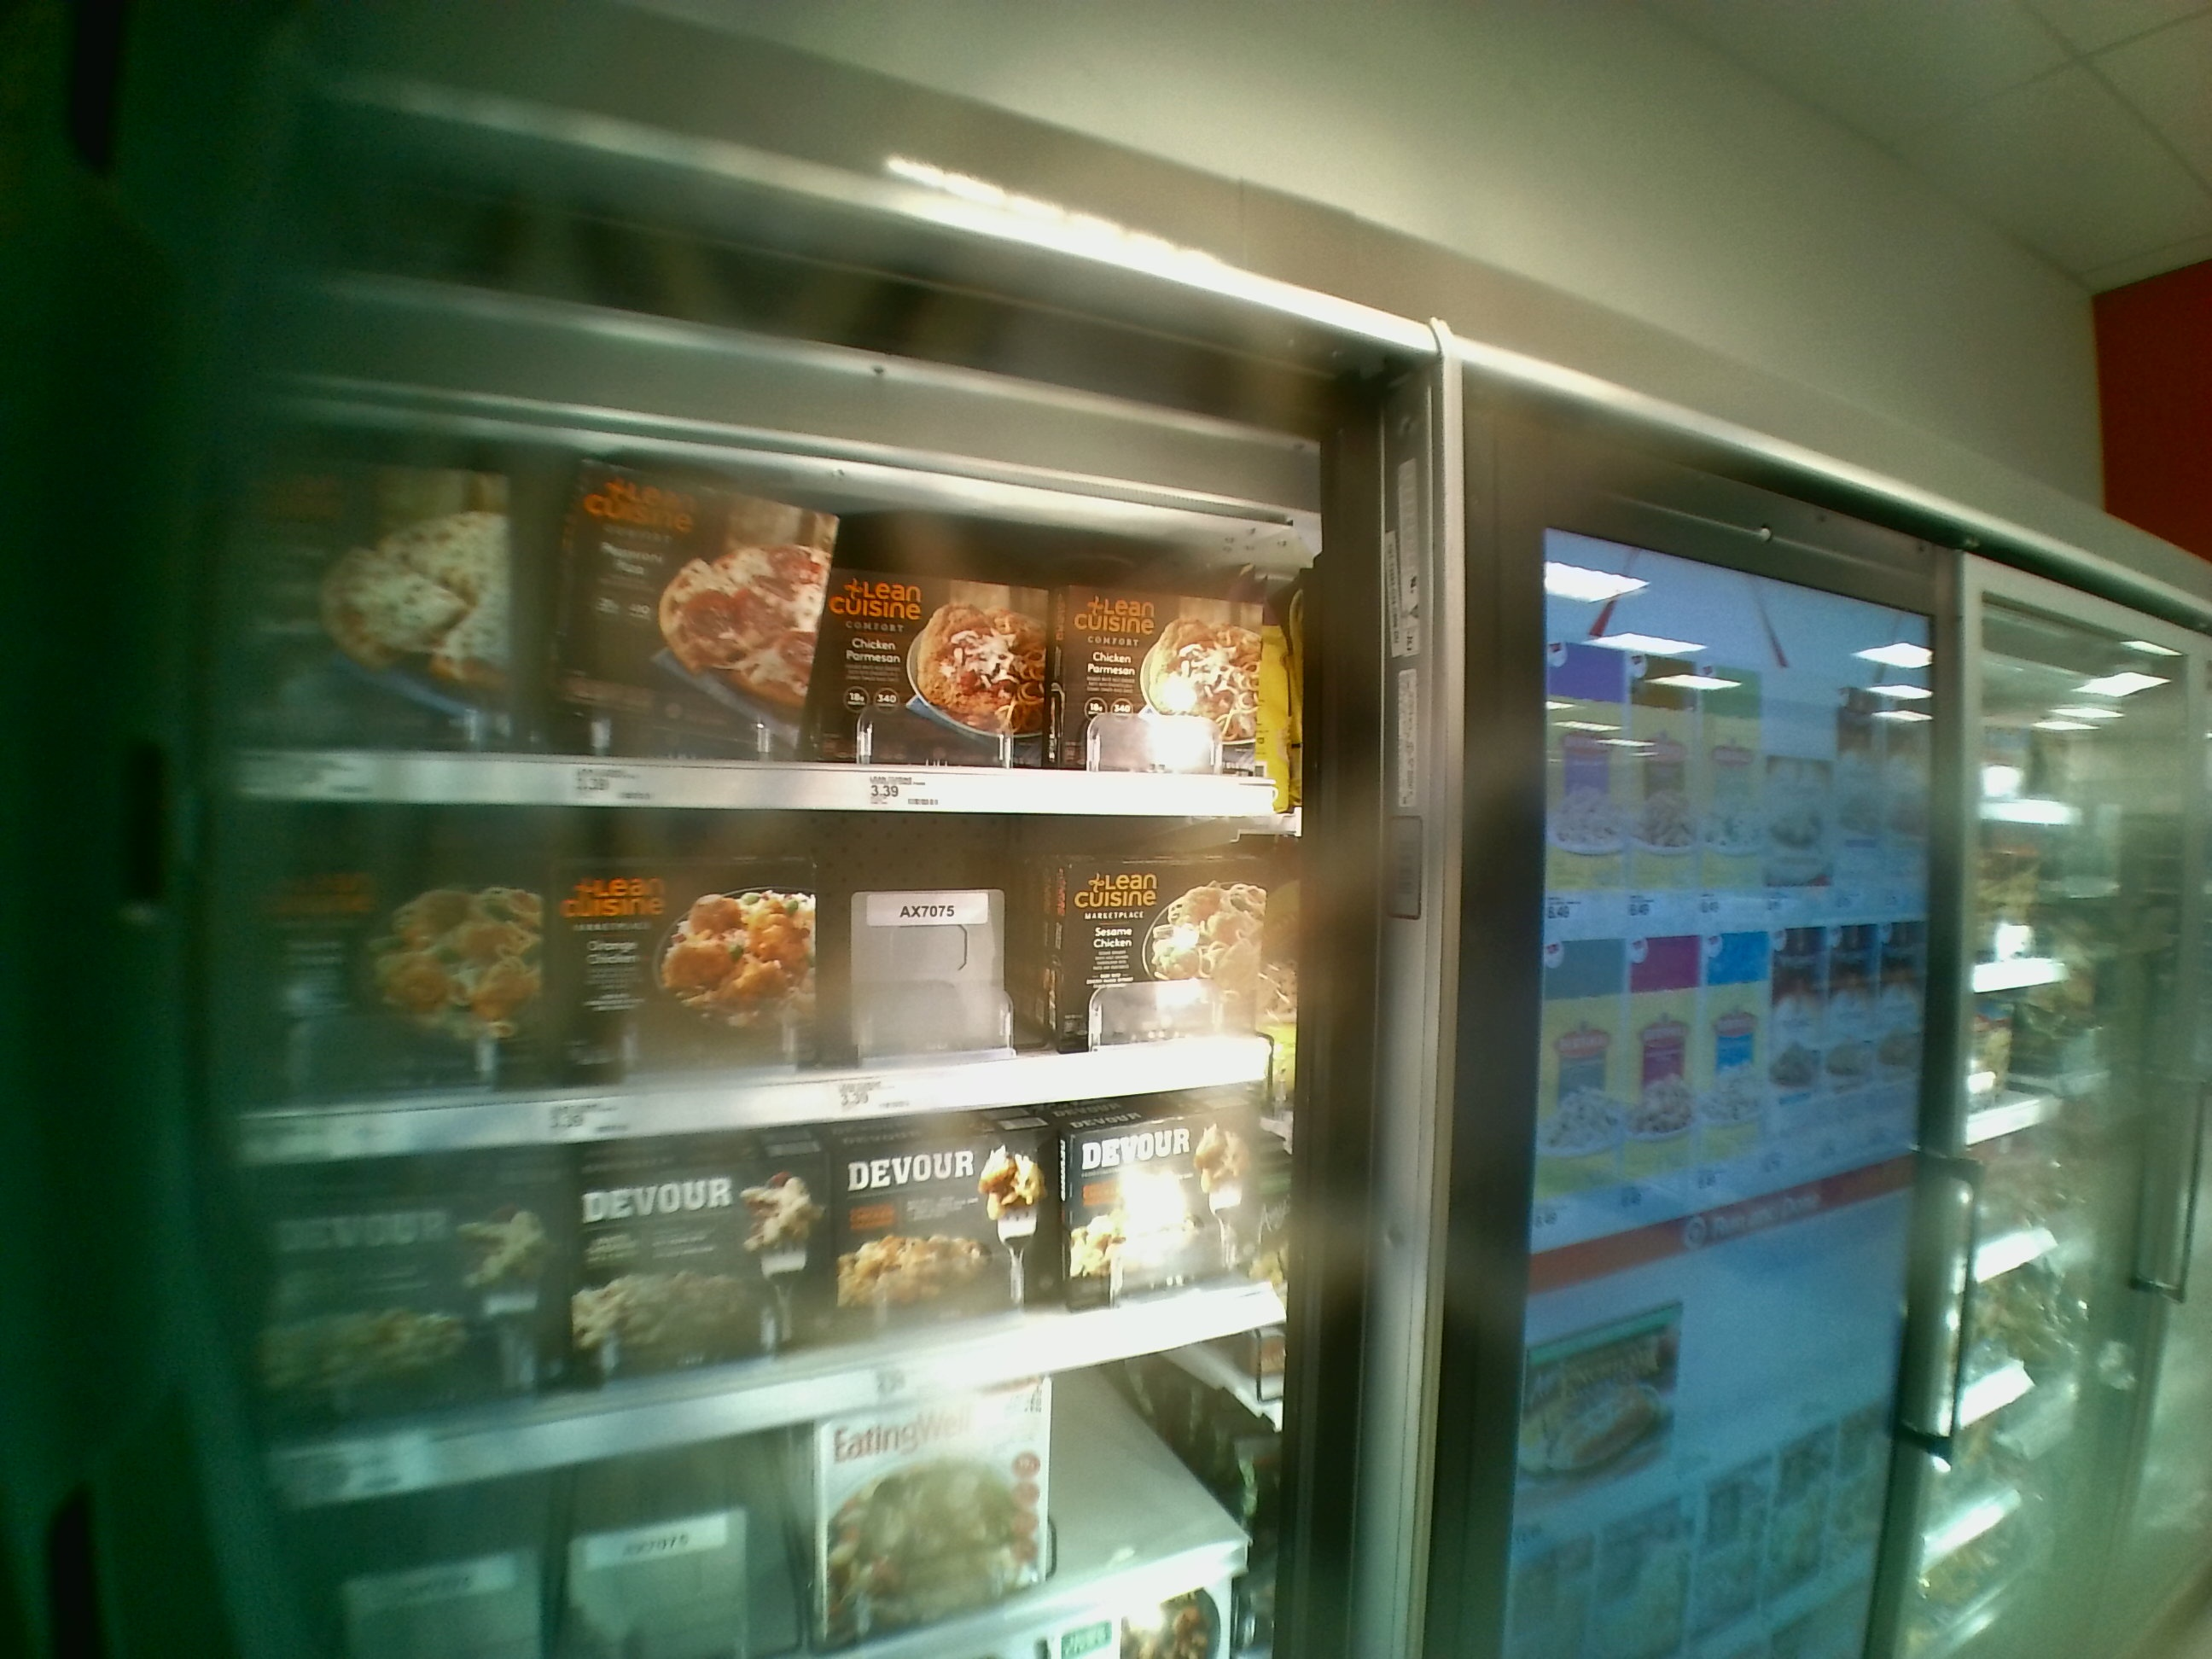Shelf: (212, 408, 1294, 814), (206, 802, 1305, 1159)
